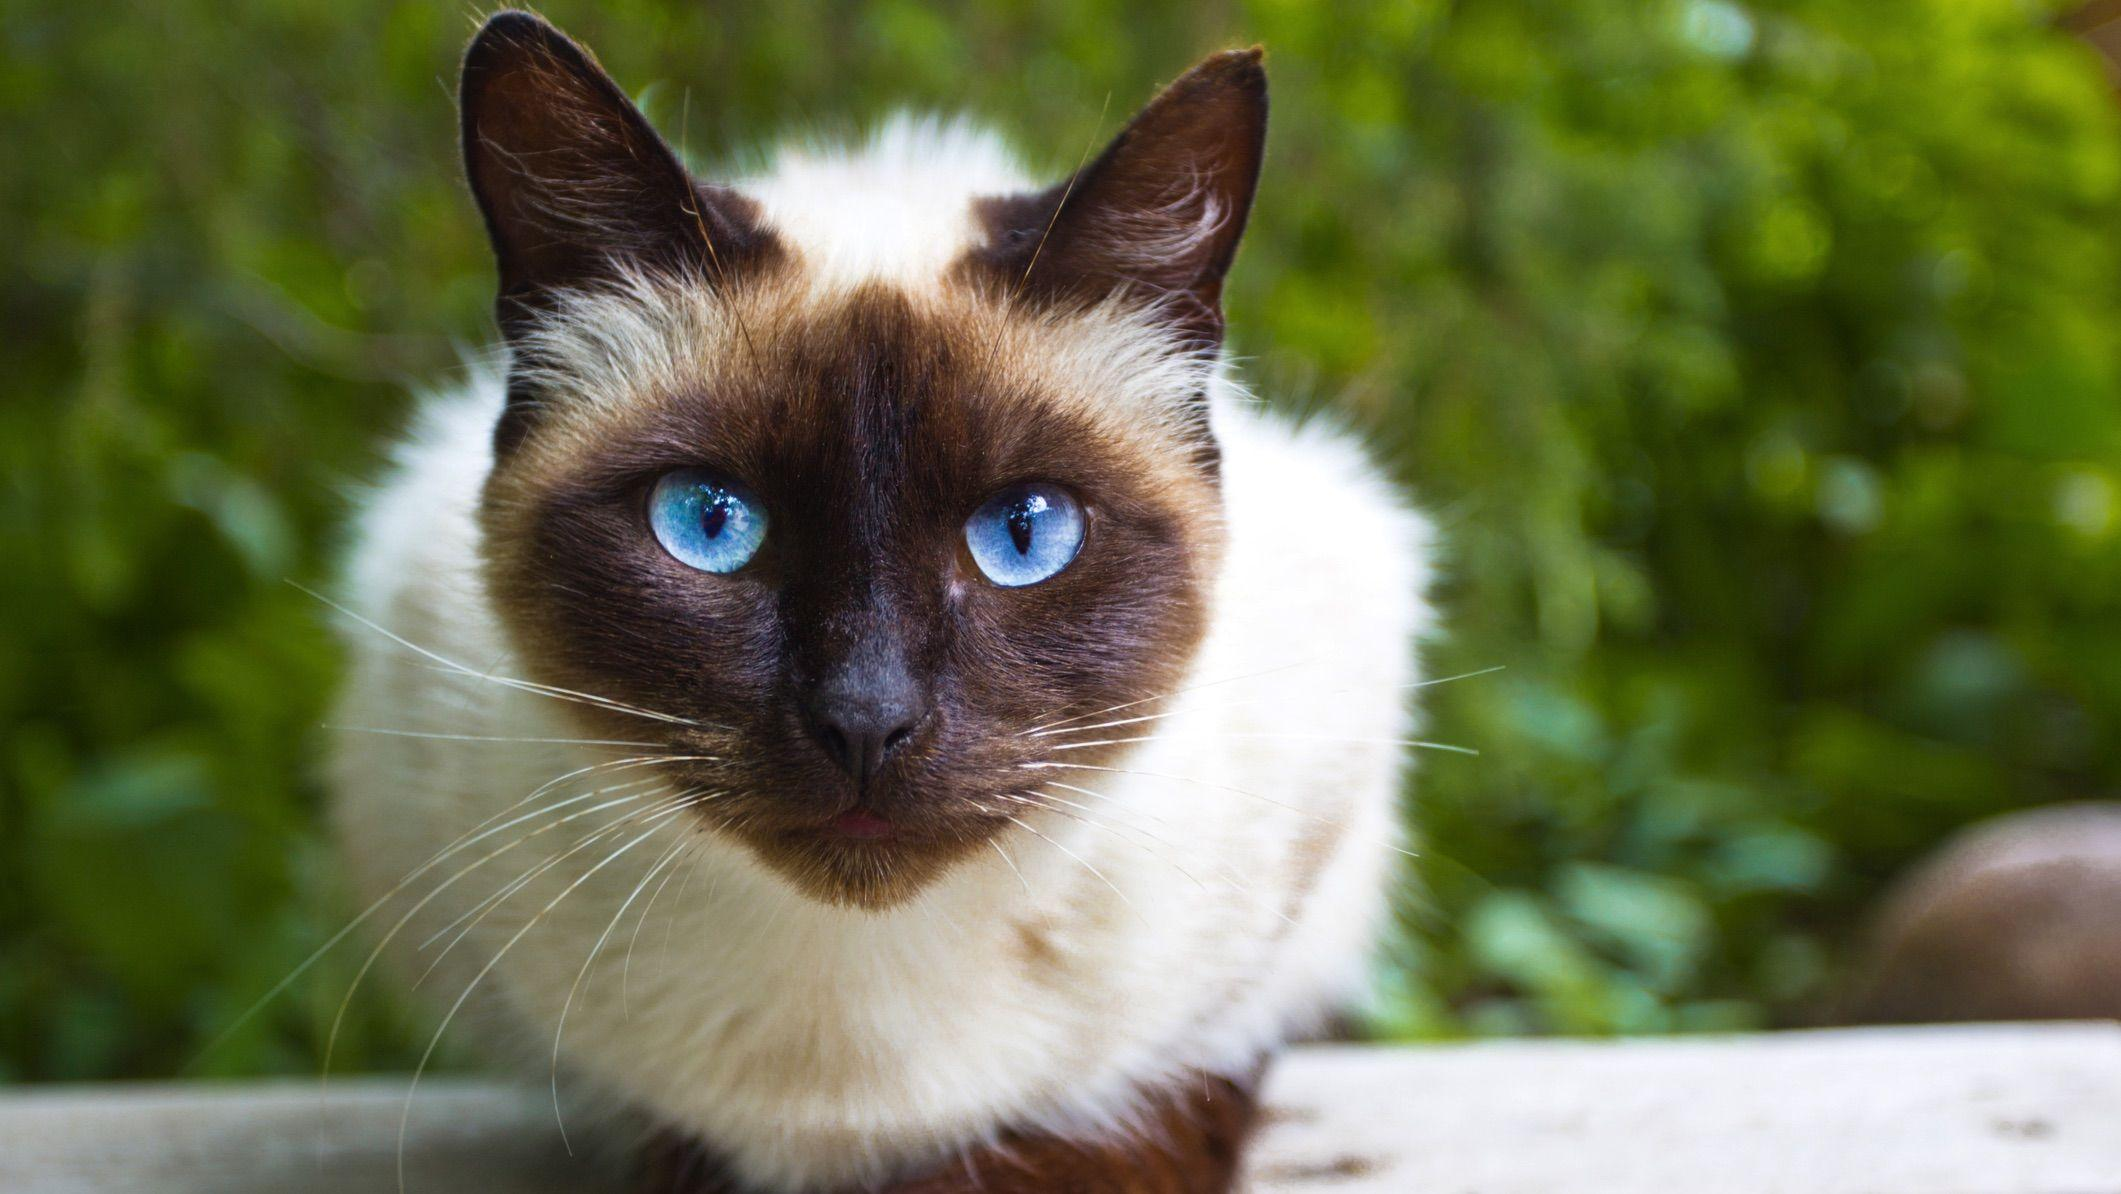siamese: (425, 1, 1318, 936)
